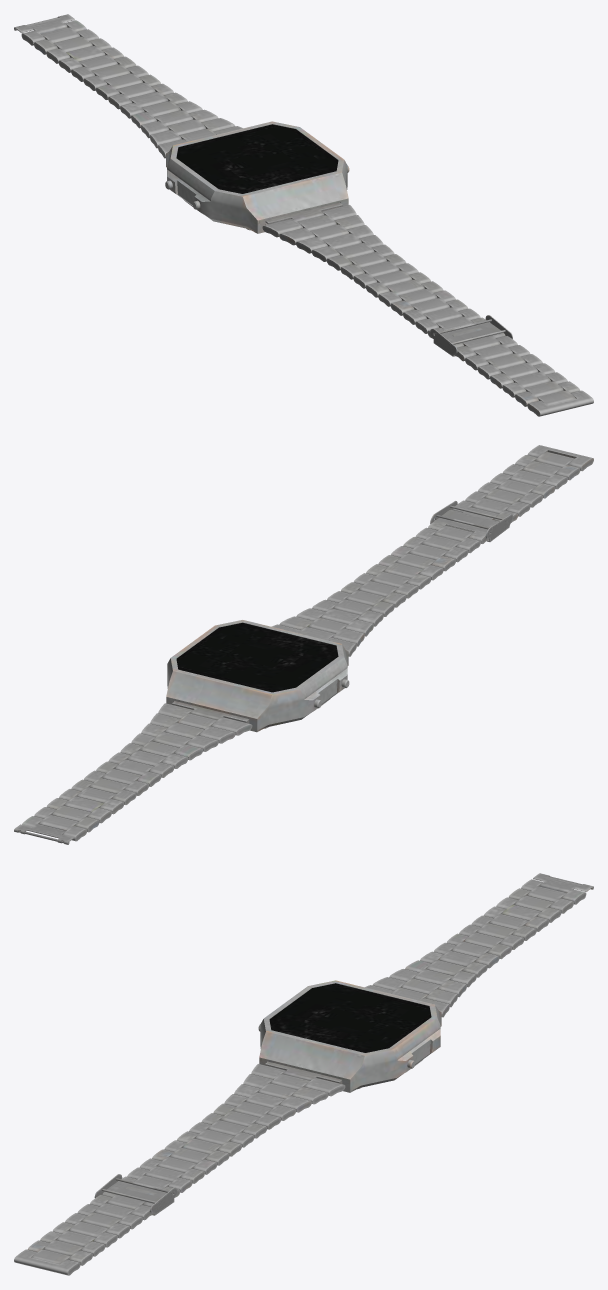
3 renders of one model, top to bottom at view 1: azimuth 30°, elevation 25°; view 2: azimuth 150°, elevation 25°; view 3: azimuth 330°, elevation 25°, orthographic.
Parts seen in each view (by area): view 1: digital_wrist_watch_strap_b, digital_wrist_watch, digital_wrist_watch_strap_a, digital_wrist_watch_clasp; view 2: digital_wrist_watch_strap_b, digital_wrist_watch, digital_wrist_watch_strap_a, digital_wrist_watch_clasp; view 3: digital_wrist_watch_strap_b, digital_wrist_watch, digital_wrist_watch_strap_a, digital_wrist_watch_clasp.
Part boxes in pixels (box(x1,y1,x2,y2)): digital_wrist_watch_strap_b: box(262, 202, 593, 416); digital_wrist_watch: box(165, 121, 349, 233); digital_wrist_watch_strap_a: box(21, 20, 242, 158); digital_wrist_watch_clasp: box(14, 14, 74, 33); digital_wrist_watch_strap_b: box(271, 445, 593, 656); digital_wrist_watch: box(166, 620, 349, 732); digital_wrist_watch_strap_a: box(22, 701, 252, 841); digital_wrist_watch_clasp: box(14, 824, 74, 844); digital_wrist_watch_strap_b: box(14, 1061, 345, 1275); digital_wrist_watch: box(258, 980, 441, 1092); digital_wrist_watch_strap_a: box(365, 879, 586, 1017); digital_wrist_watch_clasp: box(533, 873, 593, 892).
Size of the model in its own units: 0.0365 by 0.00835 by 0.2172.
2 materials, 2 textured.
